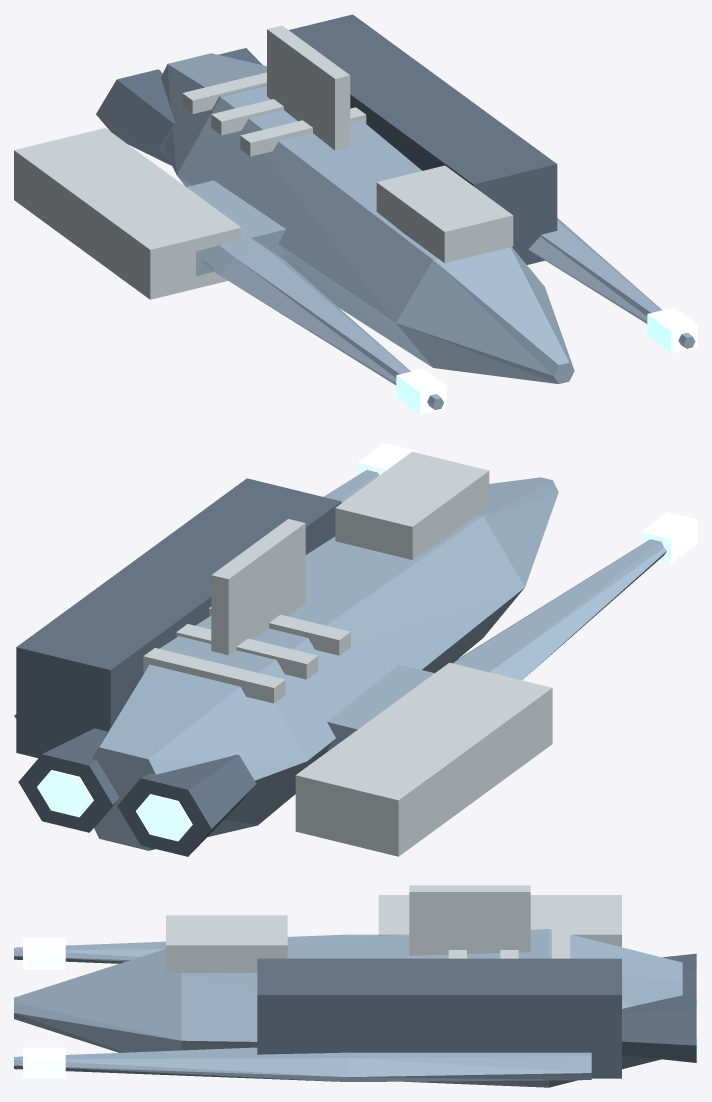
3 views of the same model, one above another, from view 1: azimuth 30°, elevation 25°; view 2: azimuth 150°, elevation 25°; view 3: azimuth 270°, elevation 25° (orthographic). The views are drawn at different scales.
Size of the model in its own units: 2.32 by 1.22 by 4.18.
